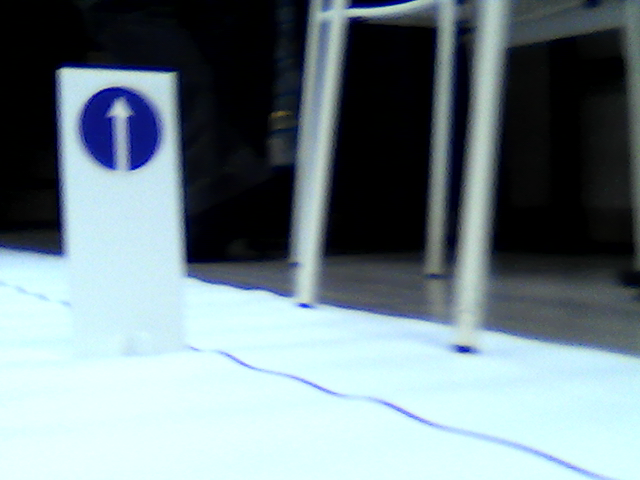forw: (80, 87, 157, 171)
